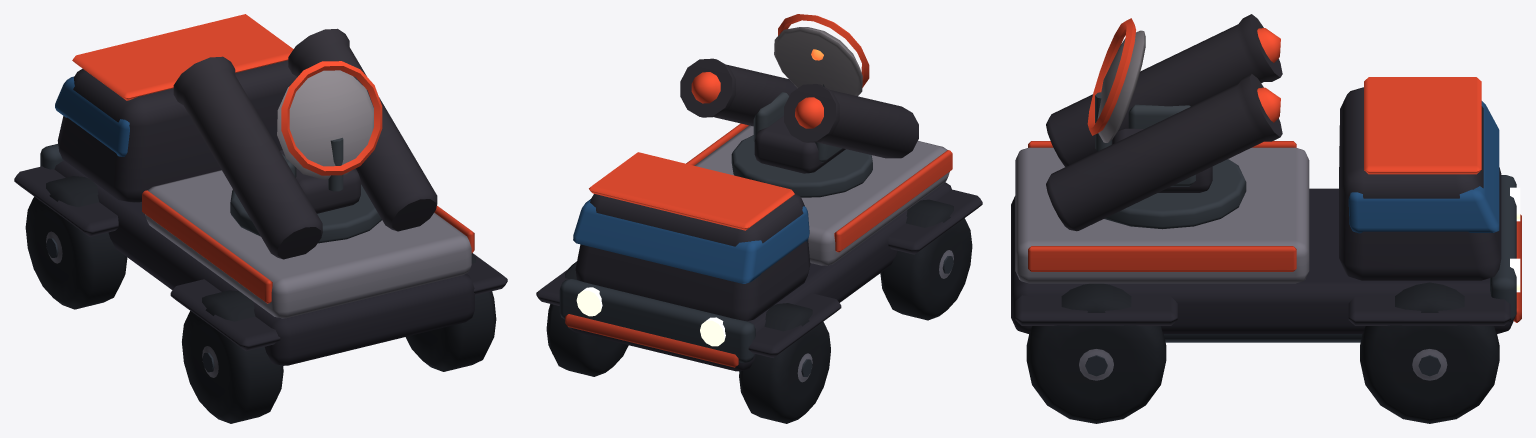
File: aa-truck.glb
3 renders of one model, left to right at view 1: azimuth 30°, elevation 25°; view 2: azimuth 150°, elevation 25°; view 3: azimuth 270°, elevation 25°, orthographic. The views are drawn at different scales.
Parts seen in each view (by area): view 1: aa-truck Ashen charcoal, aa-truck TruckTurret Ashen charcoal, aa-truck Tyre black, aa-truck Ash grey, aa-truck Ember paint, aa-truck TruckTurret Ash grey, aa-truck TruckTurret Gunmetal, aa-truck TruckTurret Ember paint, aa-truck Tinted glass, aa-truck Gunmetal; view 2: aa-truck Ashen charcoal, aa-truck Tyre black, aa-truck Ember paint, aa-truck TruckTurret Ashen charcoal, aa-truck Tinted glass, aa-truck Ash grey, aa-truck Gunmetal, aa-truck TruckTurret Gunmetal, aa-truck TruckTurret Ash grey, aa-truck TruckTurret Ember paint, aa-truck Lamp glow; view 3: aa-truck Ashen charcoal, aa-truck TruckTurret Ashen charcoal, aa-truck Tyre black, aa-truck Ash grey, aa-truck Ember paint, aa-truck Tinted glass, aa-truck TruckTurret Gunmetal, aa-truck Gunmetal, aa-truck TruckTurret Ember paint, aa-truck TruckTurret Ash grey, aa-truck Lamp glow.
Part boxes in pixels (<box>): aa-truck Ashen charcoal: <box>14,60,507,365</box>; aa-truck TruckTurret Ashen charcoal: <box>173,28,437,259</box>; aa-truck Tyre black: <box>25,176,496,423</box>; aa-truck Ash grey: <box>46,170,471,377</box>; aa-truck Ember paint: <box>72,14,474,303</box>; aa-truck TruckTurret Ash grey: <box>277,70,373,179</box>; aa-truck TruckTurret Gunmetal: <box>230,137,381,243</box>; aa-truck TruckTurret Ember paint: <box>281,61,382,175</box>; aa-truck Tinted glass: <box>55,76,129,156</box>; aa-truck Gunmetal: <box>40,144,283,372</box>; aa-truck Ashen charcoal: <box>536,182,982,371</box>; aa-truck Tyre black: <box>546,199,972,423</box>; aa-truck Ember paint: <box>565,123,952,367</box>; aa-truck TruckTurret Ashen charcoal: <box>680,58,918,173</box>; aa-truck Tinted glass: <box>573,199,809,283</box>; aa-truck Ash grey: <box>694,125,953,382</box>; aa-truck Gunmetal: <box>559,256,953,376</box>; aa-truck TruckTurret Gunmetal: <box>731,84,872,197</box>; aa-truck TruckTurret Ash grey: <box>774,27,862,96</box>; aa-truck TruckTurret Ember paint: <box>691,14,869,128</box>; aa-truck Lamp glow: <box>576,287,725,346</box>; aa-truck Ashen charcoal: <box>1011,87,1513,333</box>; aa-truck TruckTurret Ashen charcoal: <box>1046,14,1282,231</box>; aa-truck Tyre black: <box>1026,282,1499,423</box>; aa-truck Ash grey: <box>1015,147,1447,380</box>; aa-truck Ember paint: <box>1028,77,1521,322</box>; aa-truck Tinted glass: <box>1348,101,1499,233</box>; aa-truck TruckTurret Gunmetal: <box>1095,92,1246,229</box>; aa-truck Gunmetal: <box>1085,175,1516,376</box>; aa-truck TruckTurret Ember paint: <box>1087,18,1280,135</box>; aa-truck TruckTurret Ash grey: <box>1097,30,1145,142</box>; aa-truck Lamp glow: <box>1510,187,1520,292</box>.
Size of the model in its own units: 1.96 by 2.21 by 3.04.
8 materials, 5 textured.
